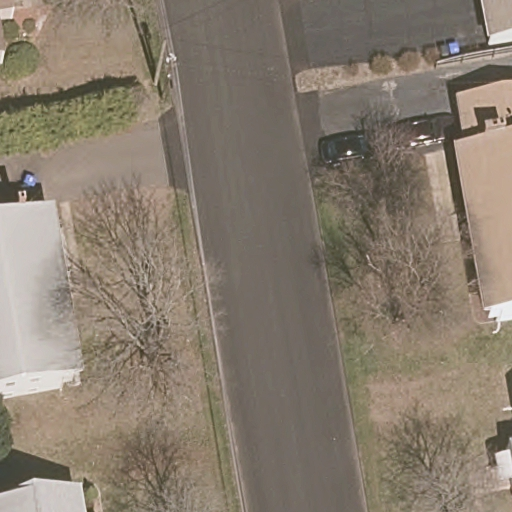DT: (151, 38, 178, 88)
